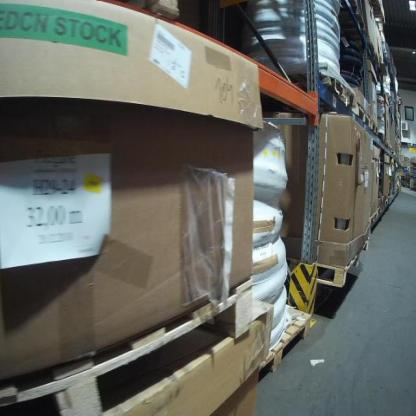pallet: (1, 277, 253, 415), (254, 297, 311, 379), (285, 71, 354, 107), (317, 252, 371, 284), (337, 1, 366, 35), (351, 96, 370, 130), (368, 117, 380, 137), (367, 207, 379, 225)
